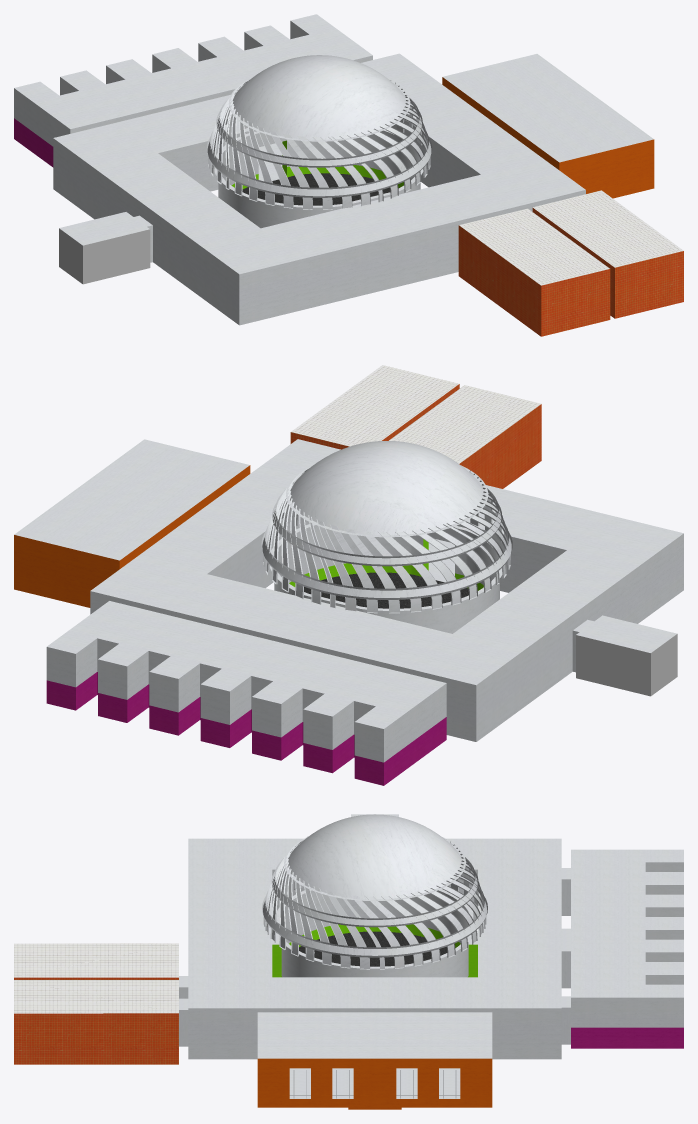
File: Lounge.fbx
3 views of the same model, one above another, from view 1: azimuth 30°, elevation 25°; view 2: azimuth 150°, elevation 25°; view 3: azimuth 270°, elevation 25° (orthographic). The views are drawn at different scales.
Visible parts, largest first — view 1: Lounge, Lounge_c, Lounge_t, Lounge_p, Lounge_l, Lounge_e; view 2: Lounge, Lounge_p, Lounge_c, Lounge_l, Lounge_t, Lounge_e; view 3: Lounge, Lounge_c, Lounge_l, Lounge_p, Lounge_t.
Part boxes in pixels (bbox=[...]): Lounge: bbox=[53, 53, 585, 325]; Lounge_c: bbox=[206, 55, 432, 228]; Lounge_t: bbox=[458, 190, 683, 336]; Lounge_p: bbox=[14, 14, 372, 167]; Lounge_l: bbox=[442, 54, 654, 198]; Lounge_e: bbox=[59, 212, 150, 284]; Lounge: bbox=[90, 439, 683, 741]; Lounge_p: bbox=[46, 601, 446, 785]; Lounge_c: bbox=[261, 441, 512, 633]; Lounge_l: bbox=[14, 439, 250, 607]; Lounge_t: bbox=[290, 365, 541, 488]; Lounge_e: bbox=[576, 615, 677, 696]; Lounge: bbox=[179, 838, 570, 1059]; Lounge_c: bbox=[262, 814, 487, 977]; Lounge_l: bbox=[257, 1012, 492, 1109]; Lounge_p: bbox=[571, 849, 683, 1048]; Lounge_t: bbox=[14, 943, 178, 1064].
Bounding box in the file's own units: 57.36 × 15.51 × 62.85.
